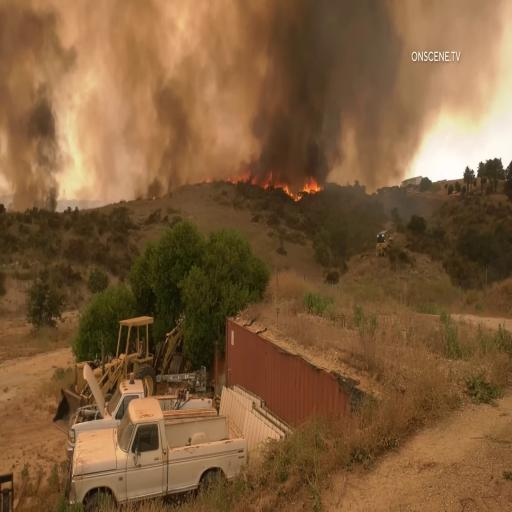fire: (308, 177, 324, 199)
smoke: (272, 8, 338, 160)
